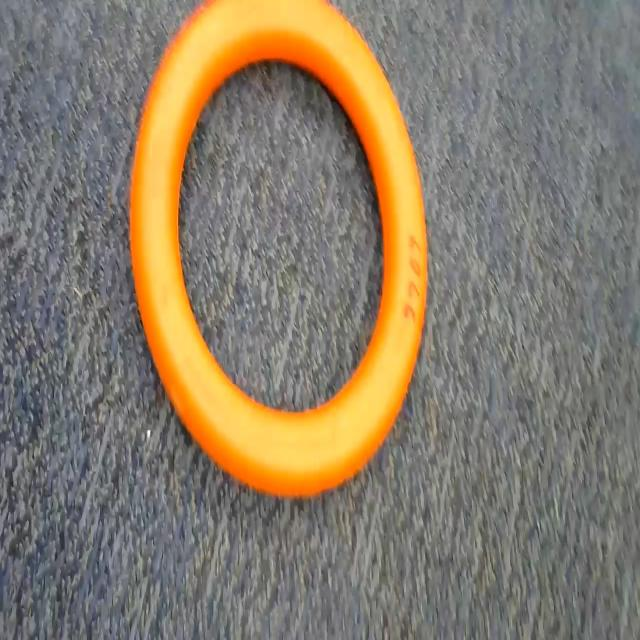note: (129, 0, 437, 510)
